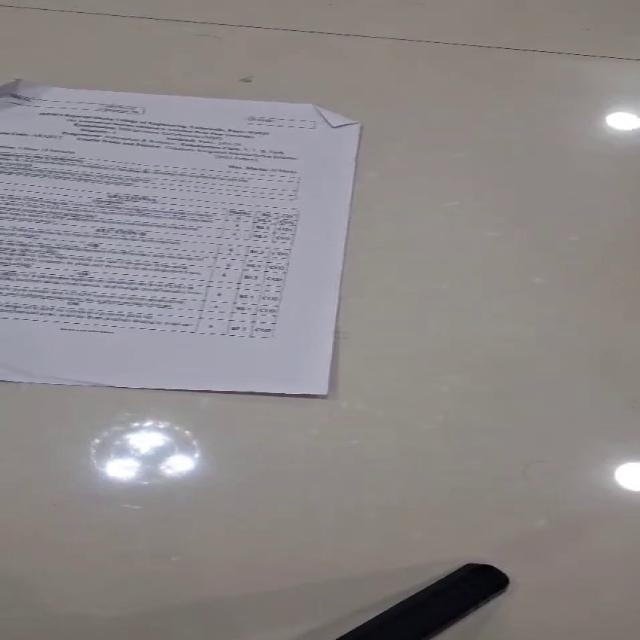paper: (0, 78, 363, 396)
